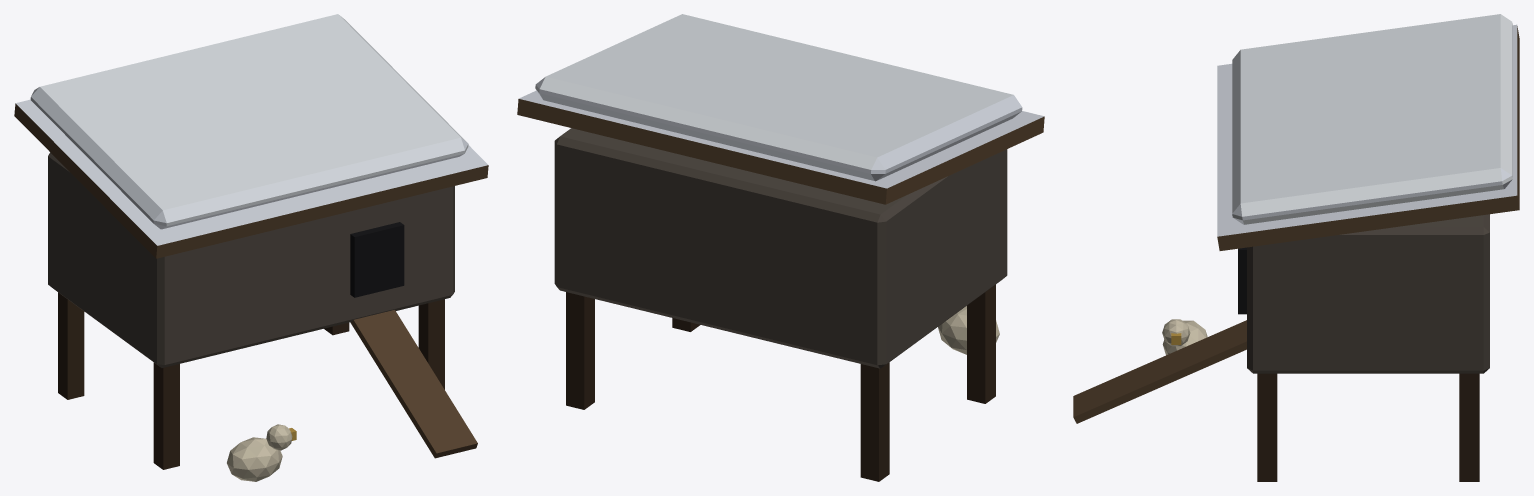
File: village_chicken_coop.glb
3 renders of one model, left to right at view 1: azimuth 30°, elevation 25°; view 2: azimuth 150°, elevation 25°; view 3: azimuth 270°, elevation 25°, orthographic. The views are drawn at different scales.
Visible parts, largest first — view 1: village_chicken_coop; view 2: village_chicken_coop; view 3: village_chicken_coop.
Part boxes in pixels (<box>): village_chicken_coop: <box>14,14,488,481</box>; village_chicken_coop: <box>517,14,1044,481</box>; village_chicken_coop: <box>1073,14,1519,481</box>.
Size of the model in its own units: 2 by 1.74 by 2.21.
